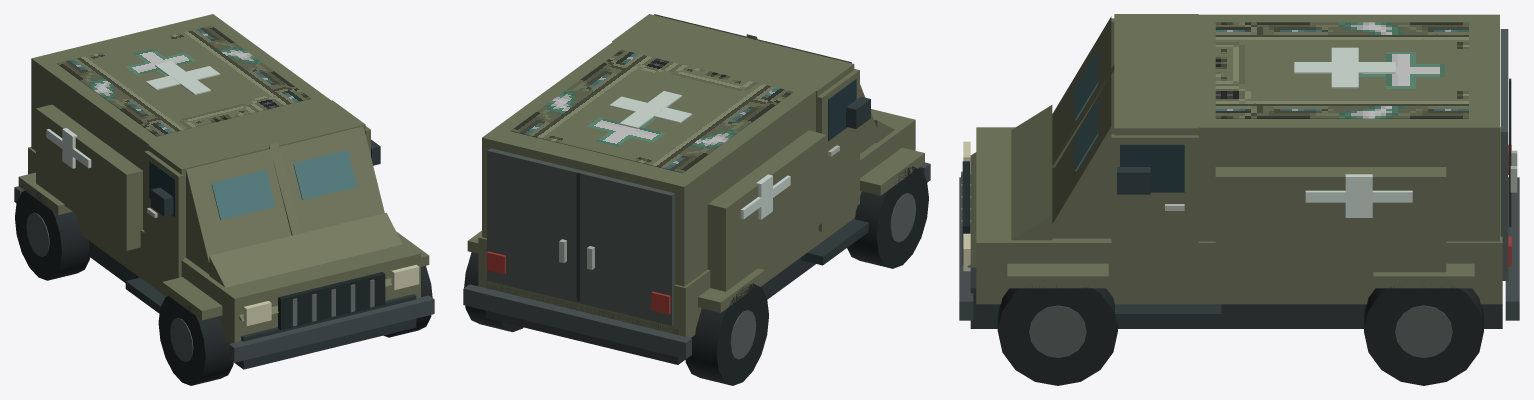
File: CMU3DReduxVehicleSPPVanMedical.glb
3 views of the same model, side by side, from view 1: azimuth 30°, elevation 25°; view 2: azimuth 150°, elevation 25°; view 3: azimuth 270°, elevation 25° (orthographic). The views are drawn at different scales.
Parts seen in each view (by area): view 1: source roof livery, sloping cab frame, enclosed rear body, lower vehicle body, armored side storage, rubber road tire (×3), front hood, cab bulkhead, armored vision window (×2), bumper, cab door skin, sealed chassis (+12 smaller); view 2: rear double doors, source roof livery, enclosed rear body, armored side storage, rubber road tire (×3), cab bulkhead, lower vehicle body, bumper, cab door skin, wheel fender (×2), sealed chassis, recessed metal wheel hub (×2) (+9 smaller); view 3: enclosed rear body, source roof livery, armored side storage, lower vehicle body, rubber road tire (×2), cab door skin, cab bulkhead, sloping cab frame, front hood, sealed chassis, recessed metal wheel hub (×2), wheel fender (×2) (+12 smaller).
Boxes of the visible parts, x1,y1,x2,y2 form: source roof livery: [57, 25, 311, 136]; sloping cab frame: [186, 126, 384, 276]; enclosed rear body: [31, 14, 330, 229]; lower vehicle body: [28, 147, 420, 343]; armored side storage: [36, 104, 142, 250]; rubber road tire (×3): [15, 190, 432, 385]; front hood: [209, 212, 402, 321]; cab bulkhead: [148, 100, 365, 258]; armored vision window (×2): [211, 150, 357, 219]; bumper: [229, 295, 434, 362]; cab door skin: [144, 150, 183, 284]; sealed chassis: [88, 240, 416, 369]; rear double doors: [487, 148, 675, 325]; source roof livery: [511, 49, 793, 173]; enclosed rear body: [482, 41, 820, 286]; armored side storage: [707, 130, 826, 291]; rubber road tire (×3): [464, 166, 928, 385]; cab bulkhead: [612, 14, 854, 131]; lower vehicle body: [478, 109, 915, 337]; bumper: [463, 284, 691, 359]; cab door skin: [816, 69, 859, 231]; wheel fender (×2): [698, 147, 924, 312]; sealed chassis: [485, 257, 815, 364]; recessed metal wheel hub (×2): [730, 193, 916, 359]; enclosed rear body: [1184, 14, 1499, 241]; source roof livery: [1215, 22, 1468, 118]; armored side storage: [1215, 167, 1446, 273]; lower vehicle body: [976, 127, 1502, 304]; rubber road tire (×2): [997, 285, 1483, 385]; cab door skin: [1111, 134, 1198, 290]; cab bulkhead: [1114, 14, 1198, 135]; sloping cab frame: [1044, 16, 1111, 238]; front hood: [967, 105, 1052, 267]; sealed chassis: [970, 267, 1502, 328]; recessed metal wheel hub (×2): [1029, 305, 1452, 357]; wheel fender (×2): [1007, 263, 1474, 288].
Size of the model in its own units: 1.79 by 1.46 by 2.99.
21 materials, 1 textured.
